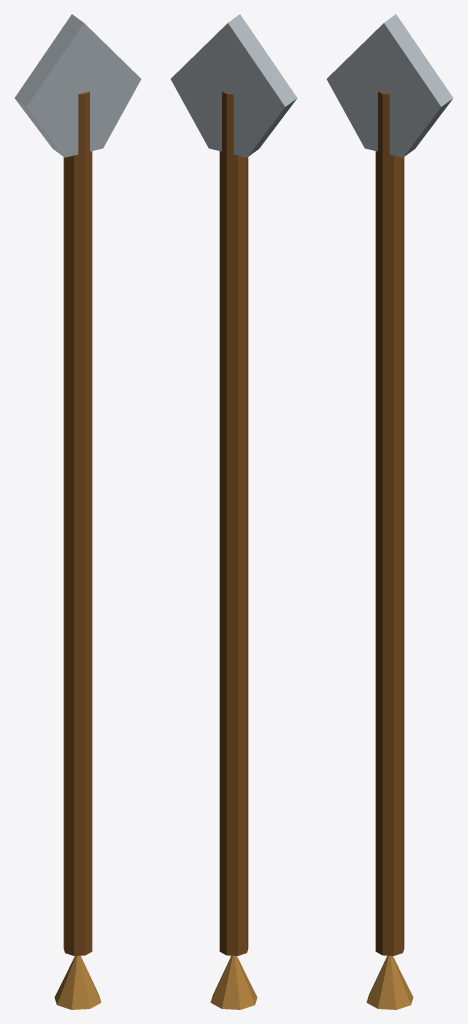
Rendered from dienekes-javelin.glb.
3 renders of one model, left to right at view 1: azimuth 30°, elevation 25°; view 2: azimuth 150°, elevation 25°; view 3: azimuth 330°, elevation 25°, orthographic.
Parts seen in each view (by area): view 1: Javelin_Shaft, Javelin_Head, Javelin_Butt; view 2: Javelin_Shaft, Javelin_Head, Javelin_Butt; view 3: Javelin_Shaft, Javelin_Head, Javelin_Butt.
Boxes of the visible parts, box(x1,y1,x2,y2) form: Javelin_Shaft: box(63, 91, 92, 955); Javelin_Head: box(14, 14, 141, 157); Javelin_Butt: box(54, 955, 101, 1009); Javelin_Shaft: box(219, 91, 248, 955); Javelin_Head: box(170, 14, 297, 157); Javelin_Butt: box(210, 955, 257, 1009); Javelin_Shaft: box(375, 91, 404, 955); Javelin_Head: box(326, 14, 453, 157); Javelin_Butt: box(366, 955, 413, 1009).
Size of the model in its own units: 12 by 98 by 4.4.
